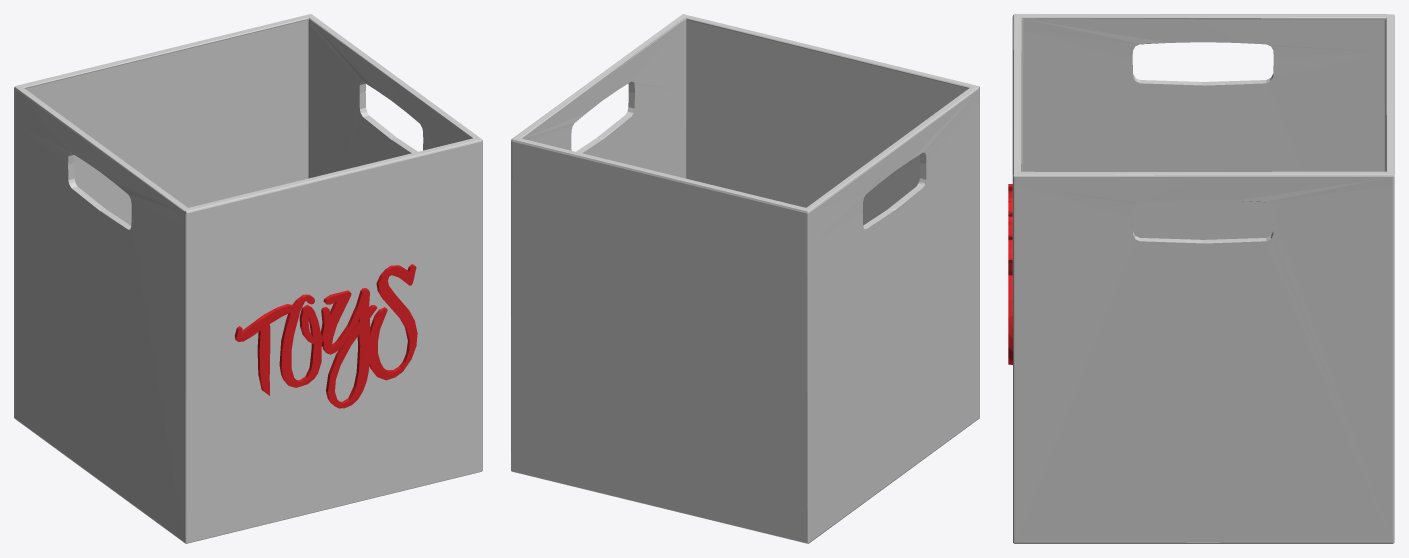
File: SoftBox3V2.fbx
3 renders of one model, left to right at view 1: azimuth 30°, elevation 25°; view 2: azimuth 150°, elevation 25°; view 3: azimuth 270°, elevation 25°, orthographic. The views are drawn at different scales.
Visible parts, largest first — view 1: Girl_Export.006; view 2: Girl_Export.006; view 3: Girl_Export.006.
Part boxes in pixels (x1=…): Girl_Export.006: x1=14, y1=14, x2=482, y2=543; Girl_Export.006: x1=511, y1=14, x2=979, y2=543; Girl_Export.006: x1=1008, y1=14, x2=1394, y2=543.
Size of the model in its own units: 3.2 by 3.24 by 3.41.
